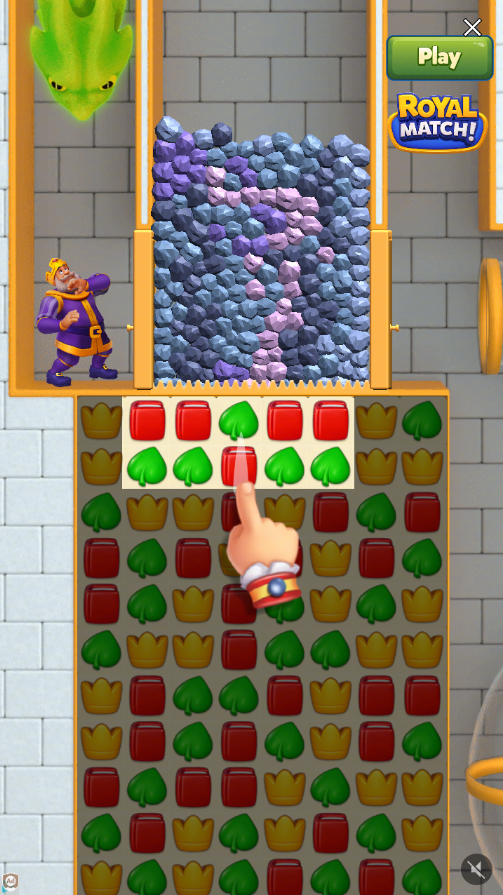close_button: (462, 15, 482, 39)
